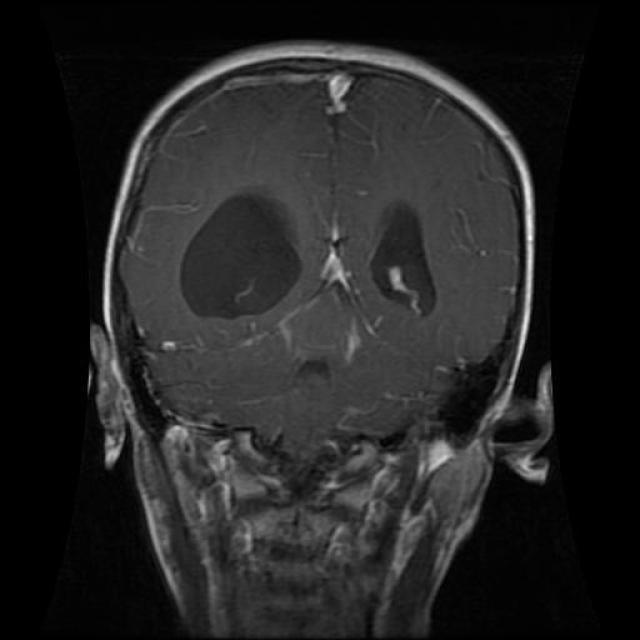glioma: (175, 188, 443, 322)
